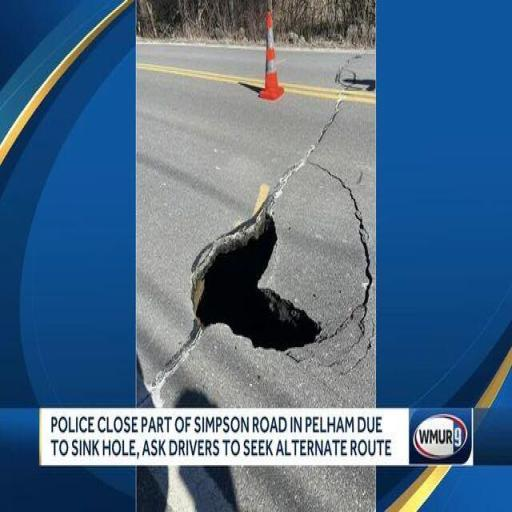Concentric_Crack: (192, 203, 321, 349)
